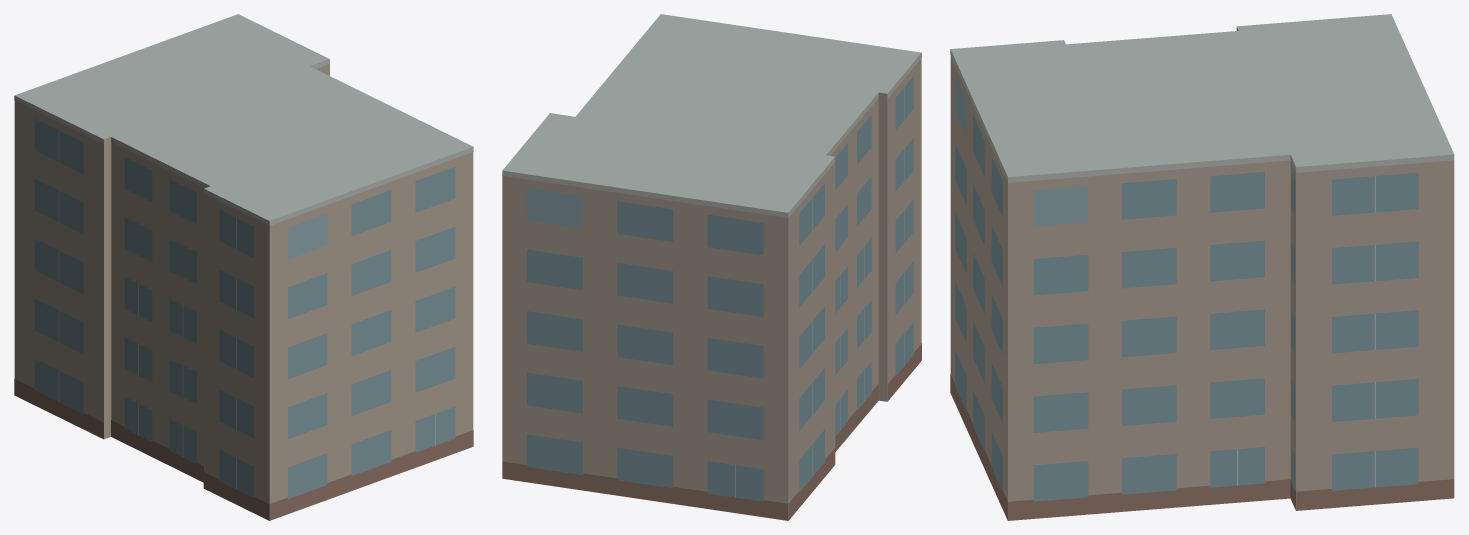
File: survey-upis-32929767.glb
The picture shows the model from 3 angles, left to right: view 1: azimuth 30°, elevation 25°; view 2: azimuth 150°, elevation 25°; view 3: azimuth 270°, elevation 25°; orthographic projection. The views are drawn at different scales.
Visible parts, largest first — view 1: survey-upis-32929767.tmp; view 2: survey-upis-32929767.tmp; view 3: survey-upis-32929767.tmp.
Part boxes in pixels (left/top/right/bottom): survey-upis-32929767.tmp: left=14, top=14, right=473, bottom=520; survey-upis-32929767.tmp: left=502, top=14, right=921, bottom=520; survey-upis-32929767.tmp: left=950, top=14, right=1454, bottom=520.
Bounding box in the file's own units: 14.77 × 14.5 × 19.27.
